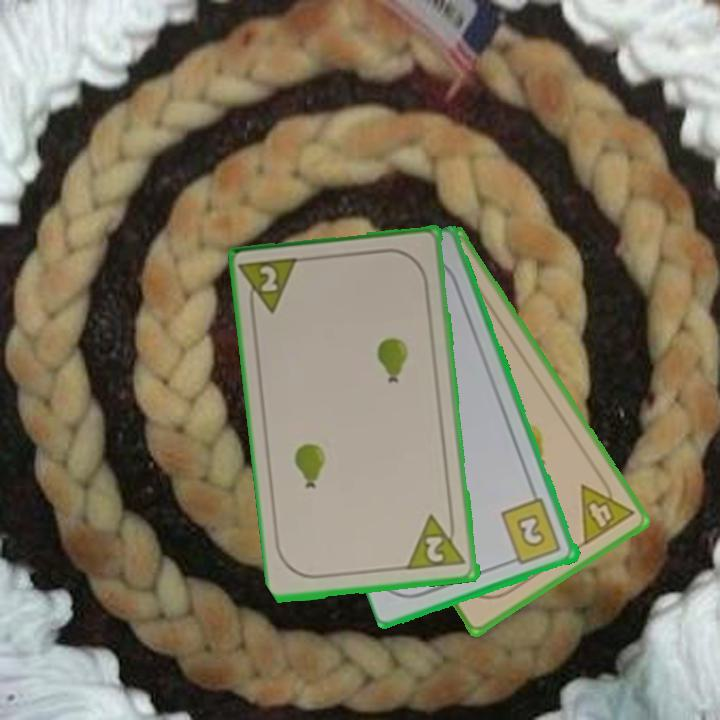2b: (498, 495, 565, 568)
2p: (238, 254, 303, 320), (405, 509, 469, 574)
4p: (577, 470, 638, 549)
